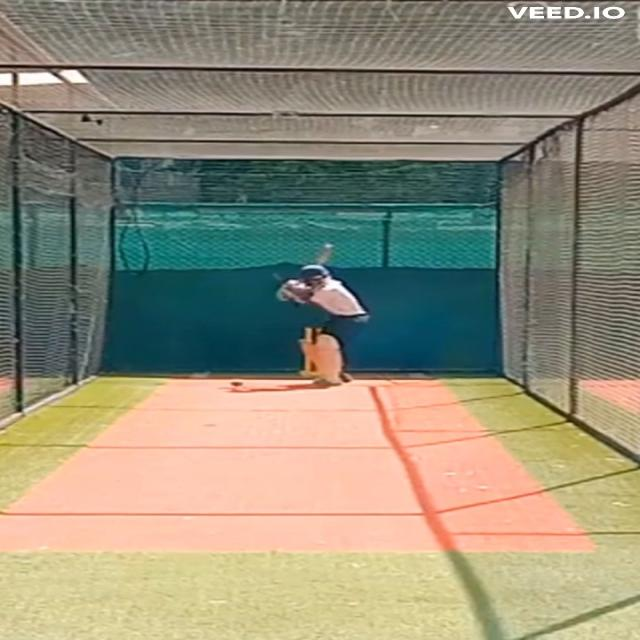ball: (230, 379, 244, 387)
stump: (300, 327, 324, 378)
